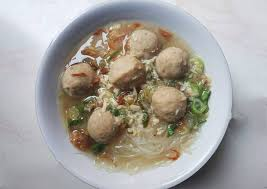bakso: (50, 41, 231, 161)
